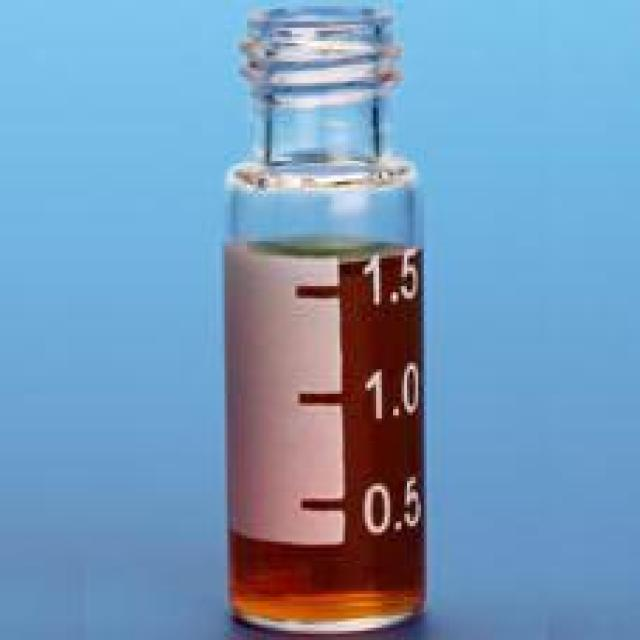B3: (213, 3, 441, 640)
